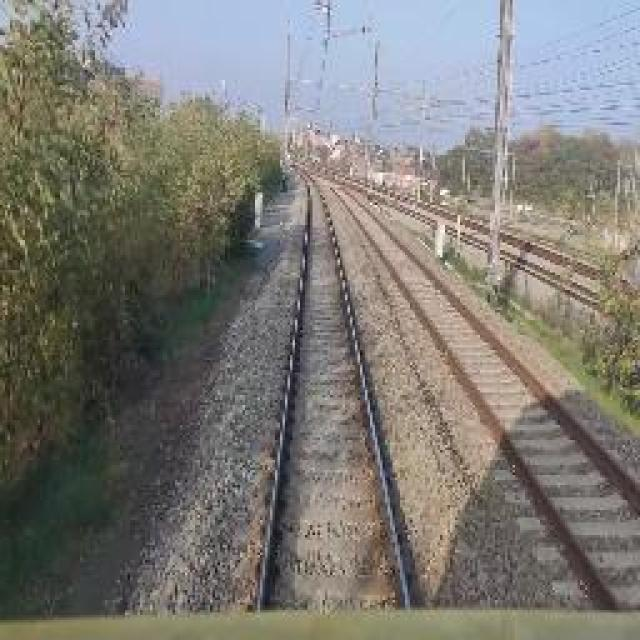rail: (317, 176, 640, 619), (238, 164, 449, 612)
